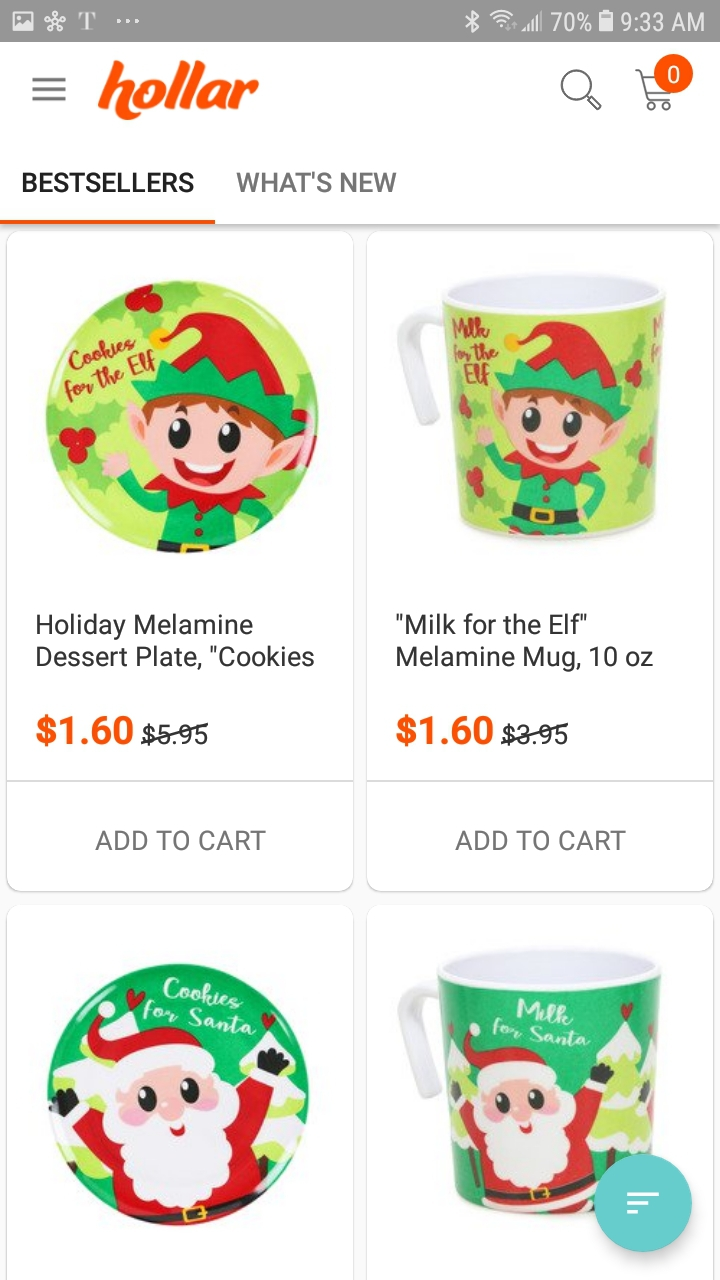Icon: (594, 1154, 693, 1253), (635, 54, 694, 112), (560, 69, 602, 112), (32, 77, 67, 102)
Image: (47, 280, 320, 554), (397, 274, 665, 543), (398, 945, 663, 1214), (47, 963, 309, 1227), (98, 61, 260, 122)
Text: (36, 613, 315, 671), (396, 612, 654, 673), (23, 172, 195, 194), (237, 171, 397, 194), (36, 714, 134, 748), (396, 714, 494, 748), (501, 722, 569, 747), (141, 722, 209, 747)
TextButton: (366, 782, 714, 893), (7, 781, 355, 892)
UpperTaskBar: (1, 1, 720, 43)
